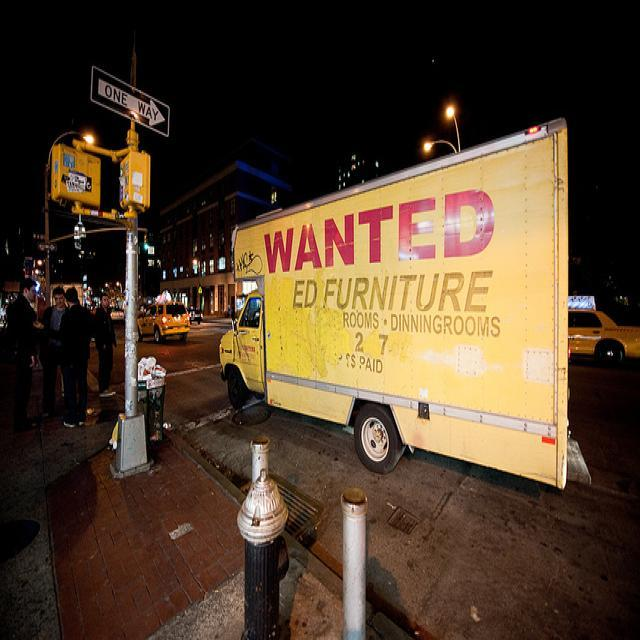fire_hydrant: (236, 466, 287, 638)
